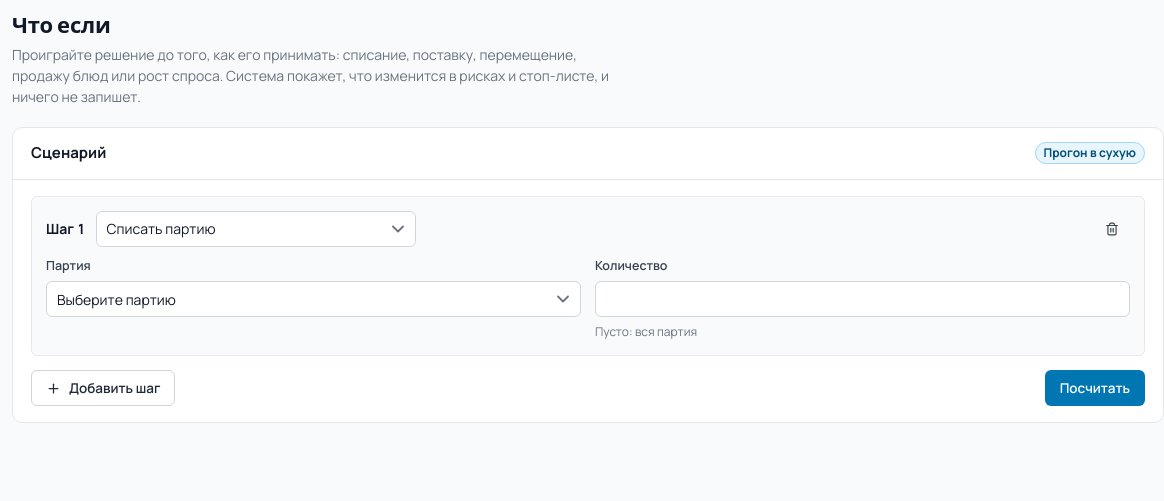
Test: страница › без выбора партии не отправляет запрос и говорит, чего не хватает
Click the button "Посчитать".
click(1095, 388)  # box [1045, 370, 1145, 406]
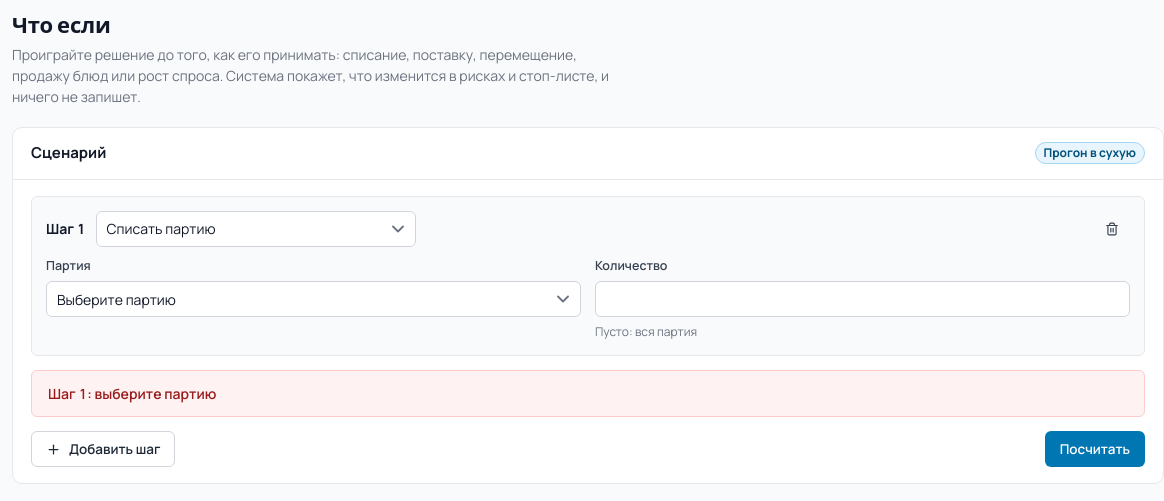
Result: the text "Шаг 1: выберите партию" is shown at [48, 383, 216, 404]
